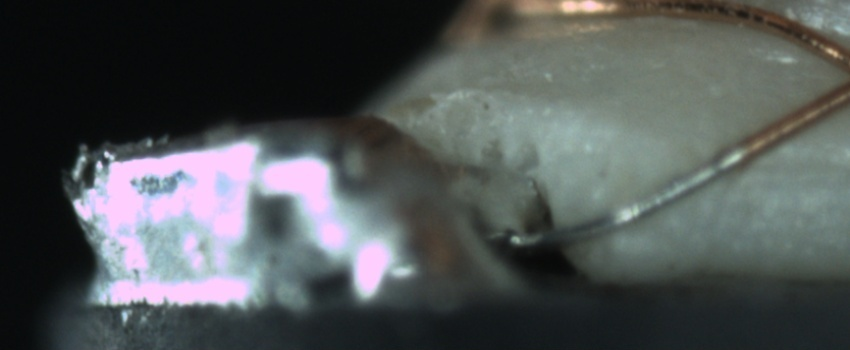CL: (816, 33, 850, 115)
DL: (705, 133, 849, 197)
TS: (508, 144, 749, 251)
